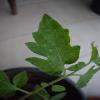Tomato mold leaf: (23, 11, 81, 75)
